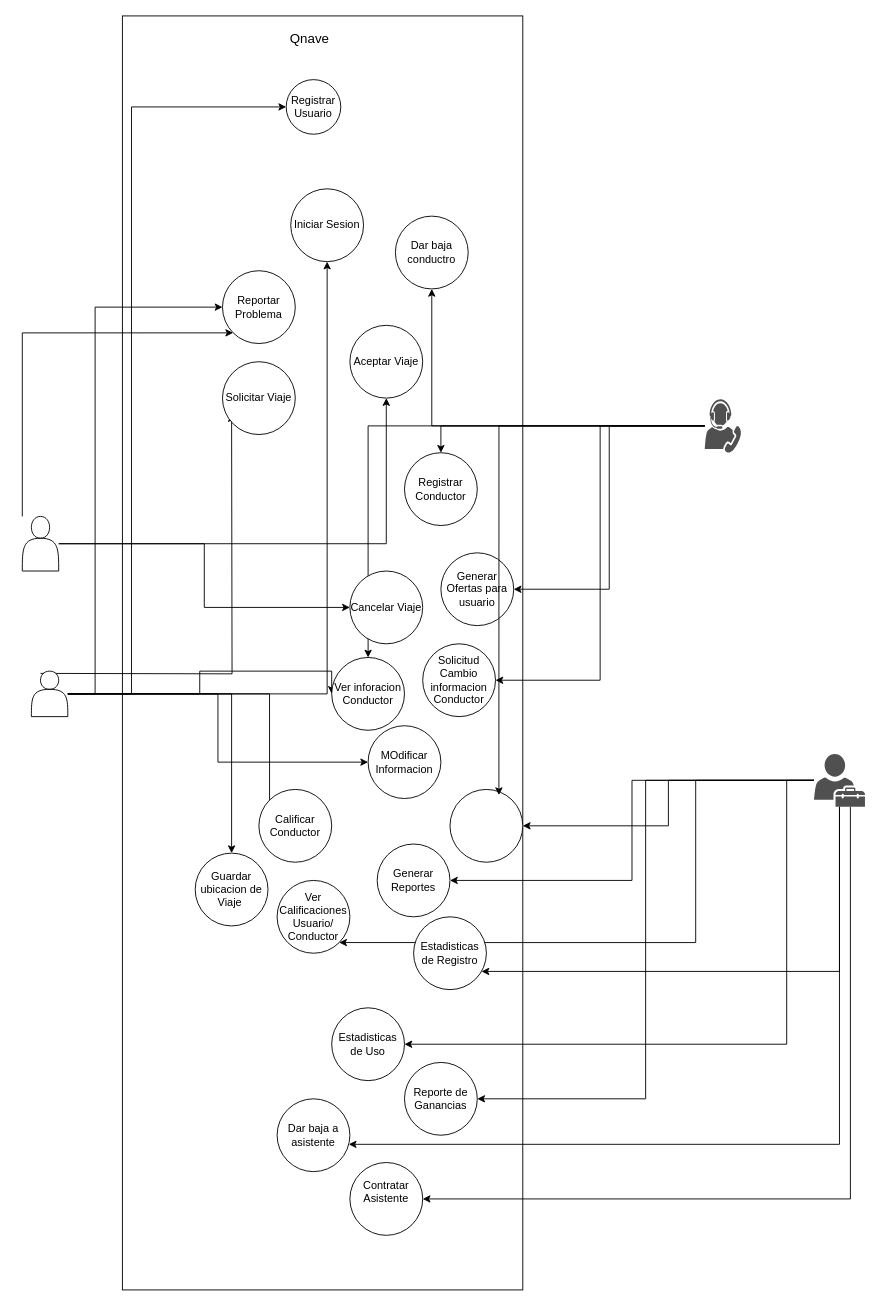
This 881x1306 diagram has some shape labels left out. The box of each missing label's shape, as (x1, y1, x2, y2) in pixels:
Conductor: (21, 516, 59, 571)
Usuario: (30, 670, 68, 717)
Ver informacion de Usuario.: (449, 789, 523, 862)
